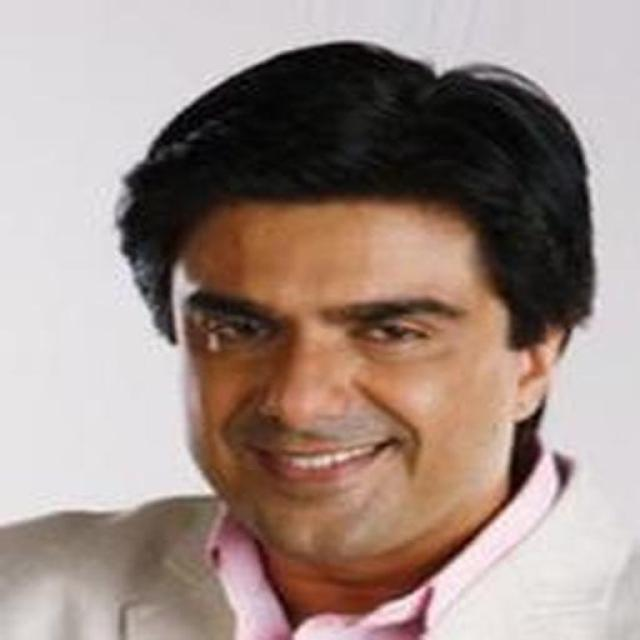bareface: (147, 80, 538, 578)
